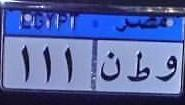1: (38, 45, 51, 87), (62, 47, 77, 83), (20, 44, 31, 82)
Taa: (127, 50, 150, 84)
noon: (98, 49, 124, 83)
waw: (153, 51, 181, 86)
